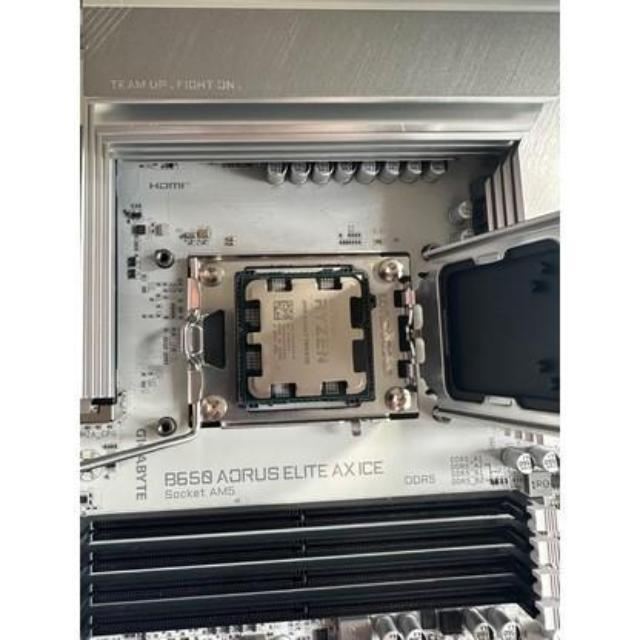CPU: (242, 274, 372, 402)
